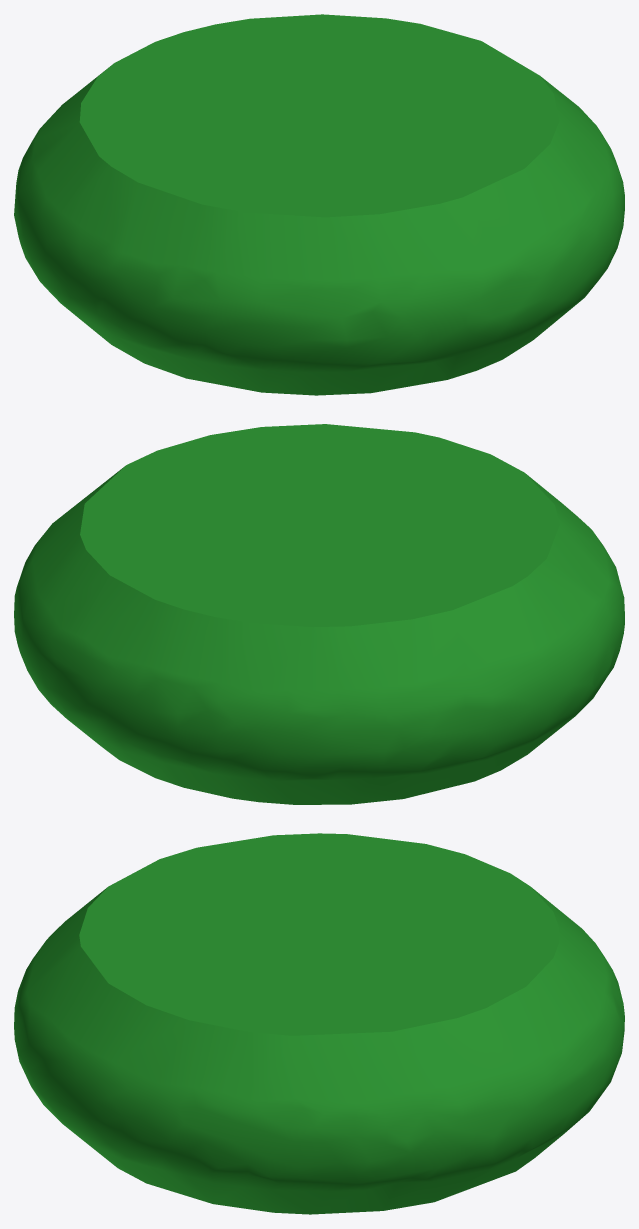
The picture shows the model from 3 angles, top to bottom: view 1: azimuth 30°, elevation 25°; view 2: azimuth 150°, elevation 25°; view 3: azimuth 270°, elevation 25°; orthographic projection.
Parts seen in each view (by area): view 1: sphere; view 2: sphere; view 3: sphere.
Boxes of the visible parts, <box> form: sphere: <box>14,14,624,395</box>; sphere: <box>14,424,624,804</box>; sphere: <box>14,833,624,1214</box>.
Bounding box in the file's own units: 13.97 × 4.5 × 13.99.
